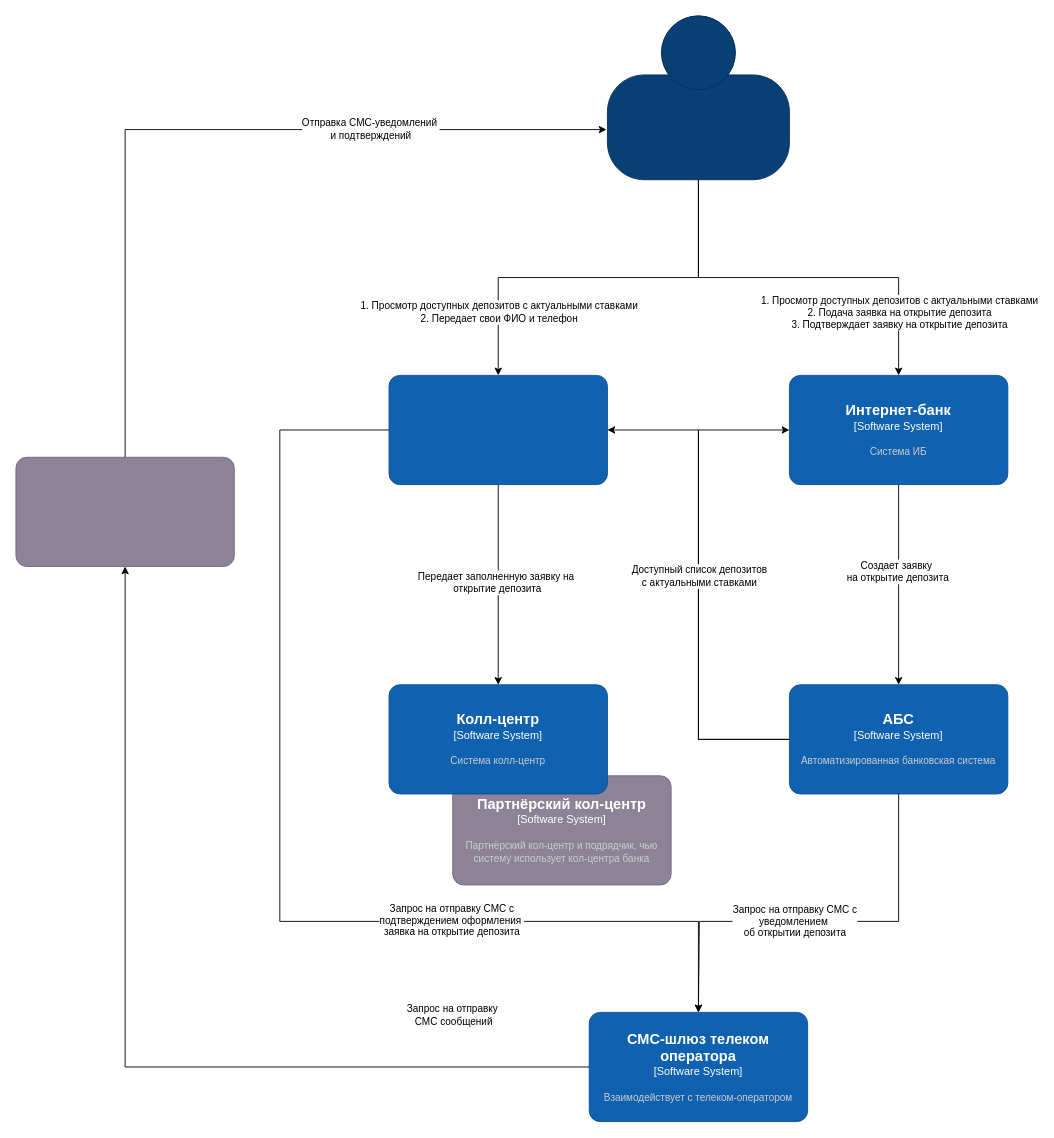
This 1054x1138 diagram has some shape labels left out. Here are the shapes that lost their labels. From the top down, the box of each, then its label:
(607, 15, 789, 180): Клиент [Person] Новый или существующий клиент банка
(388, 374, 607, 485): Сайт [Software System] Веб-сайт банка
(15, 456, 234, 566): Телеком-оператор [Software System] Внешний оператор по отправке СМС
